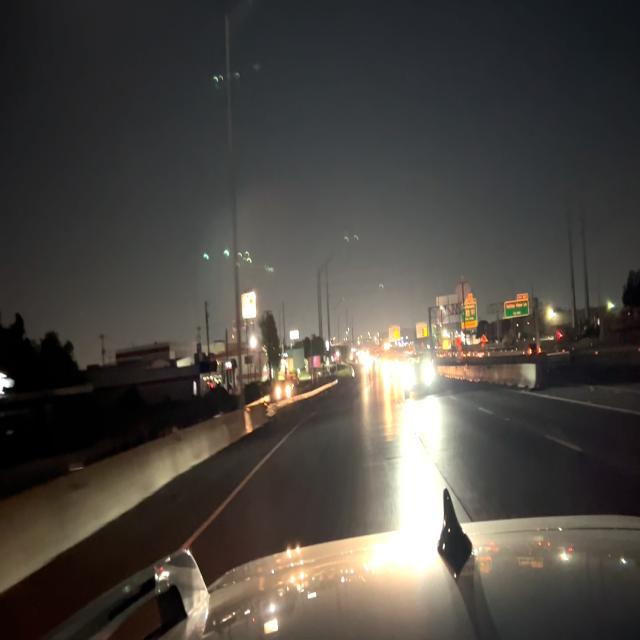back-of-sign: (434, 293, 462, 329), (455, 274, 470, 304)
